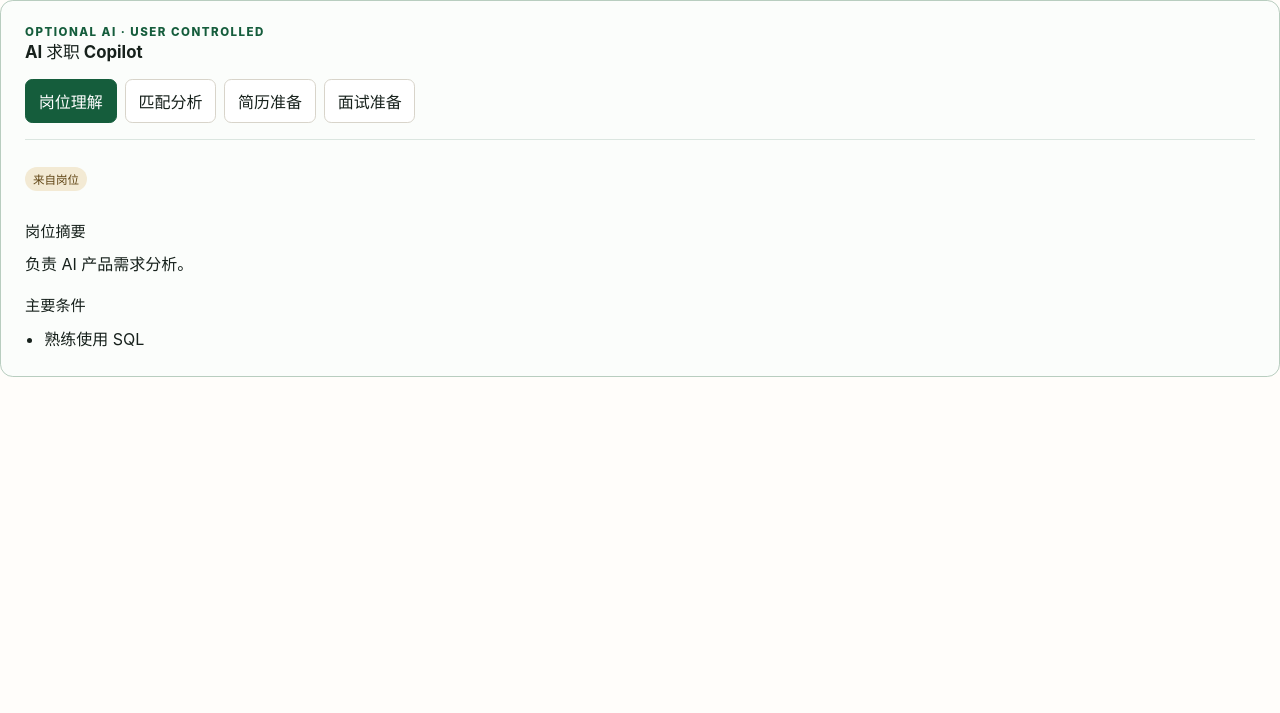
Scenario: CopilotPanel › keeps a stale result visible after a failed regeneration
Click the button "匹配分析" at (170, 101), box top-left (125, 79), bottom-right (216, 123)
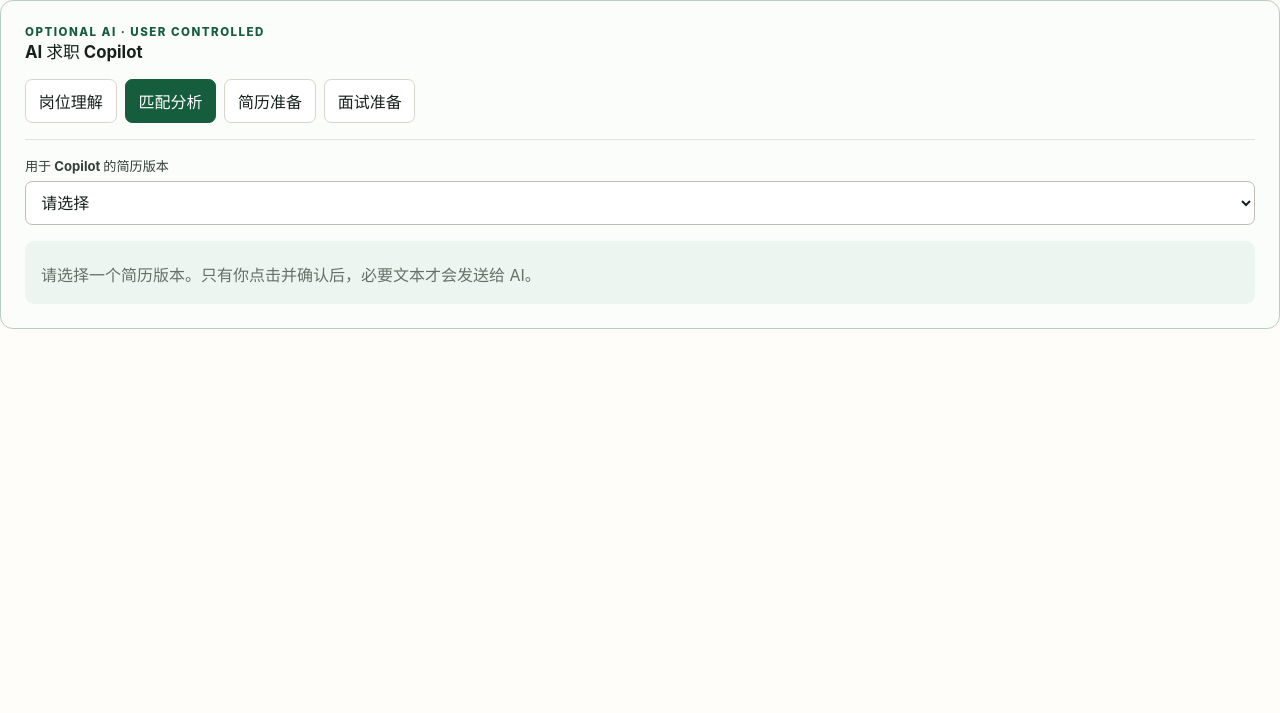
Select "产品简历" in the dropdown labelled "用于 Copilot 的简历版本" at (640, 203), box top-left (25, 181), bottom-right (1255, 225)
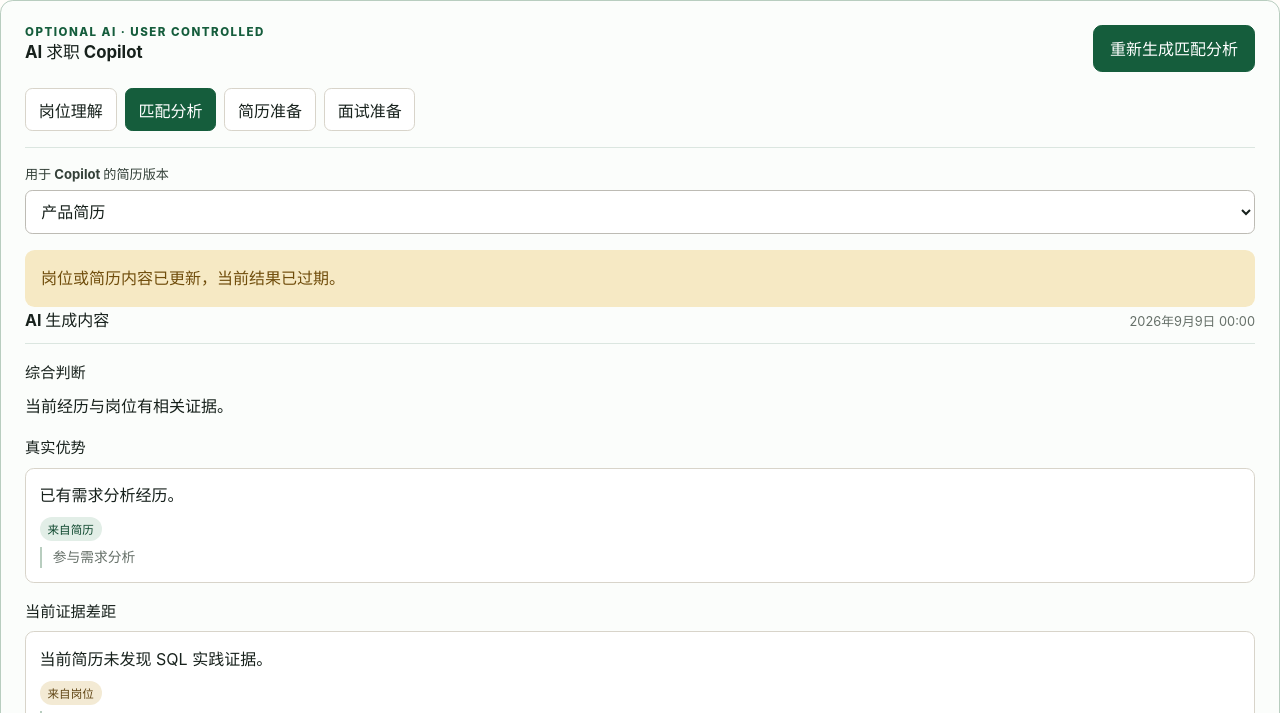
Result: the text "岗位或简历内容已更新，当前结果已过期。" is shown at top-left (25, 250), bottom-right (1255, 307)
Click the button "重新生成匹配分析" at (1174, 48), box top-left (1093, 25), bottom-right (1255, 72)
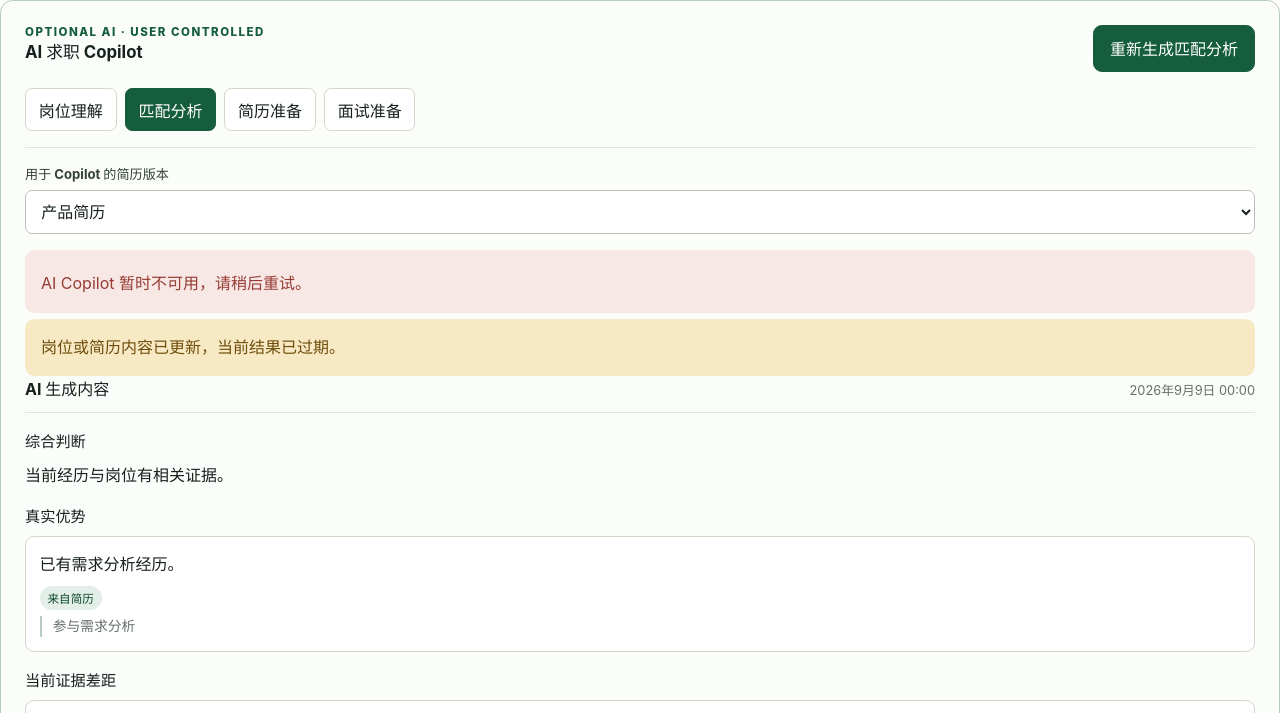
Result: the text "已有需求分析经历。" is shown at top-left (40, 554), bottom-right (184, 574)
Result: the message "AI Copilot 暂时不可用，请稍后重试。" is shown at top-left (25, 250), bottom-right (1255, 313)
